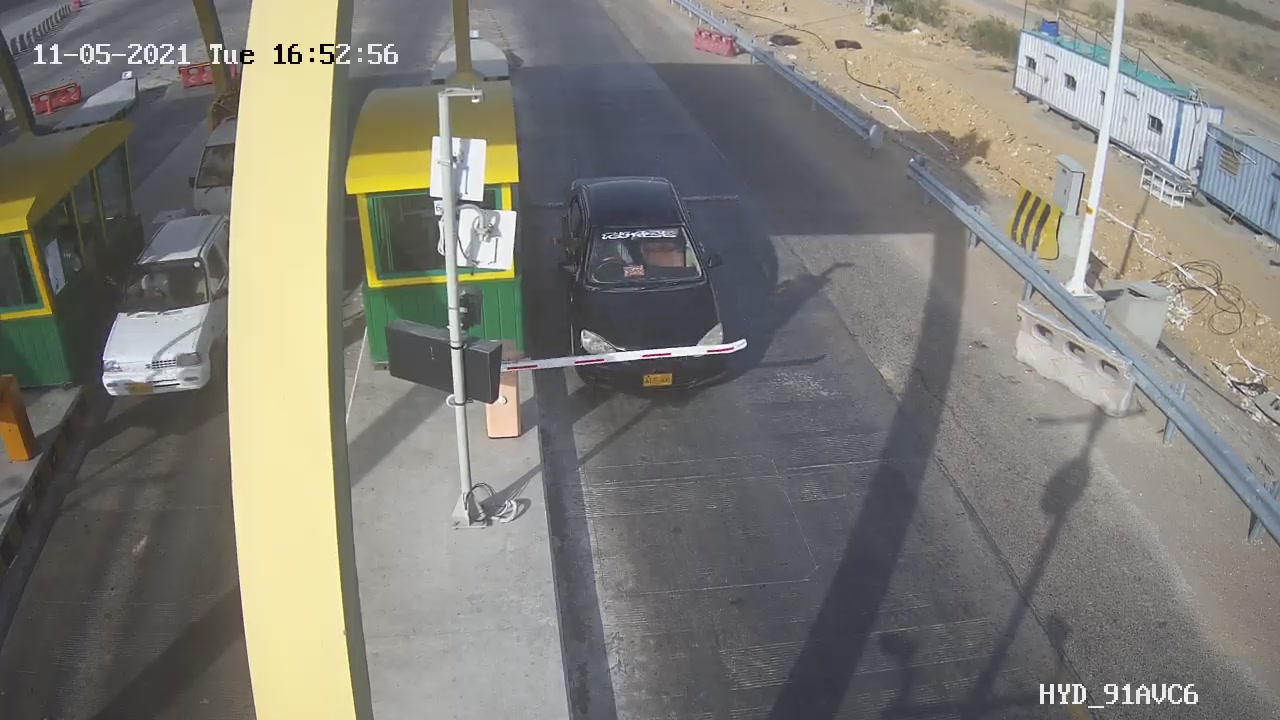F1: (535, 157, 756, 409)
